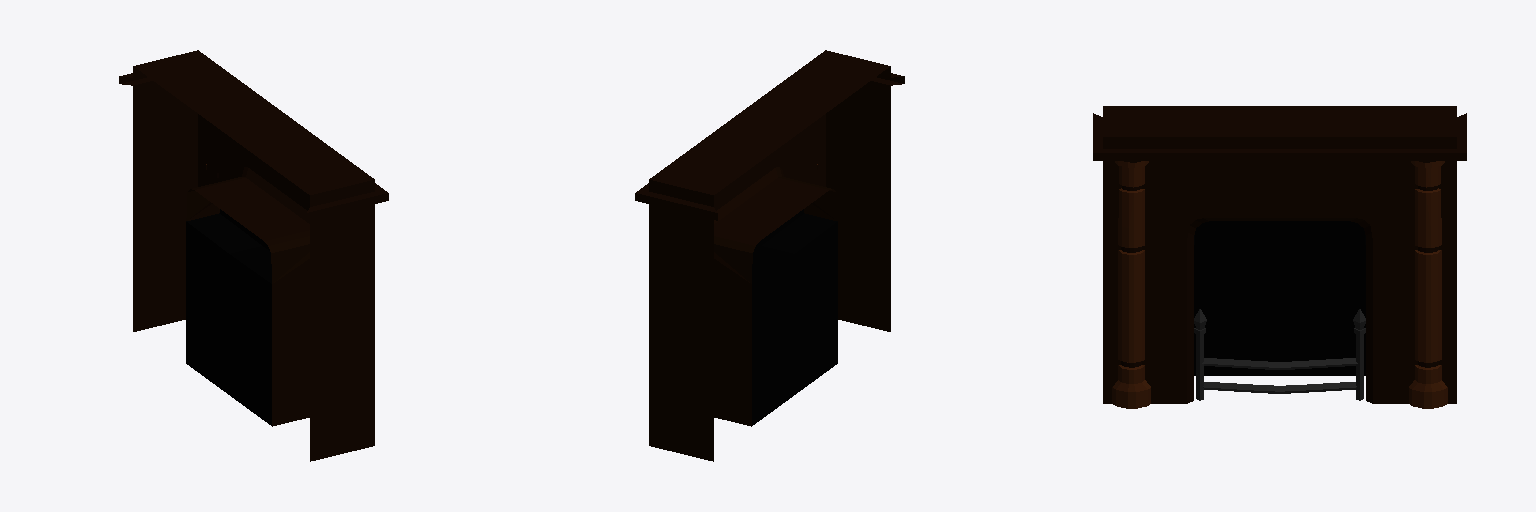
The model's file is SM_FirePlace_02.obj.
The picture shows the model from 3 angles: view 1: azimuth 30°, elevation 25°; view 2: azimuth 150°, elevation 25°; view 3: azimuth 270°, elevation 25°; orthographic projection.
Parts seen in each view (by area): view 1: SM_FirePlace:SM_FirePlace1; view 2: SM_FirePlace:SM_FirePlace1; view 3: SM_FirePlace:SM_FirePlace1.
Part boxes in pixels (bbox=[...]): SM_FirePlace:SM_FirePlace1: bbox=[119, 50, 388, 461]; SM_FirePlace:SM_FirePlace1: bbox=[635, 50, 904, 461]; SM_FirePlace:SM_FirePlace1: bbox=[1093, 106, 1466, 408].
Bounding box in the file's own units: 0.9936 × 2.94 × 3.72.